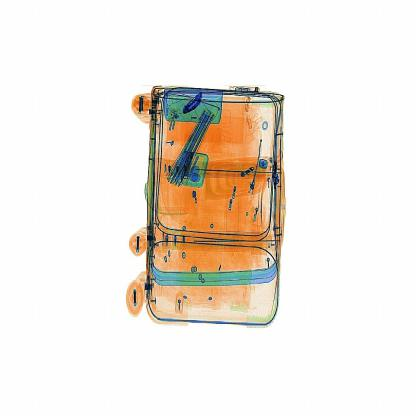knife: (174, 78, 210, 120)
